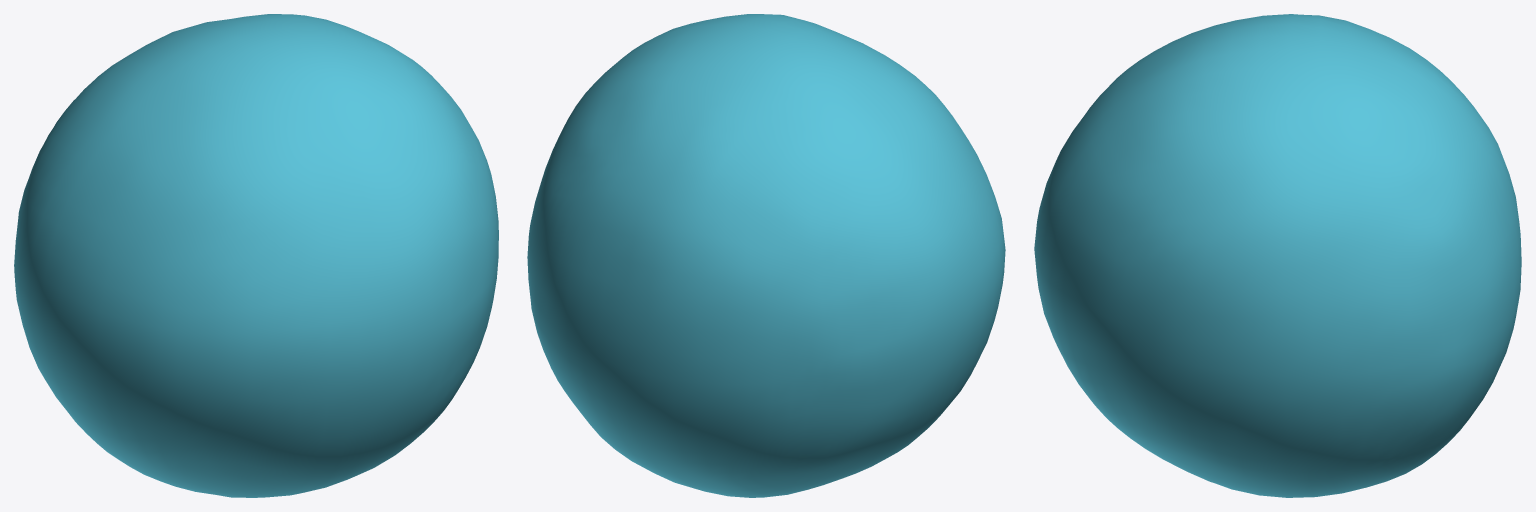
File: Heart_FkU.FBX
3 renders of one model, left to right at view 1: azimuth 30°, elevation 25°; view 2: azimuth 150°, elevation 25°; view 3: azimuth 270°, elevation 25°, orthographic. The views are drawn at different scales.
Visible parts, largest first — view 1: Box001; view 2: Box001; view 3: Box001.
Part boxes in pixels (x1,y1,x2,y2): Box001: [14, 14, 498, 497]; Box001: [527, 14, 1005, 497]; Box001: [1034, 14, 1521, 497].
Size of the model in its own units: 30 by 30.03 by 30.
